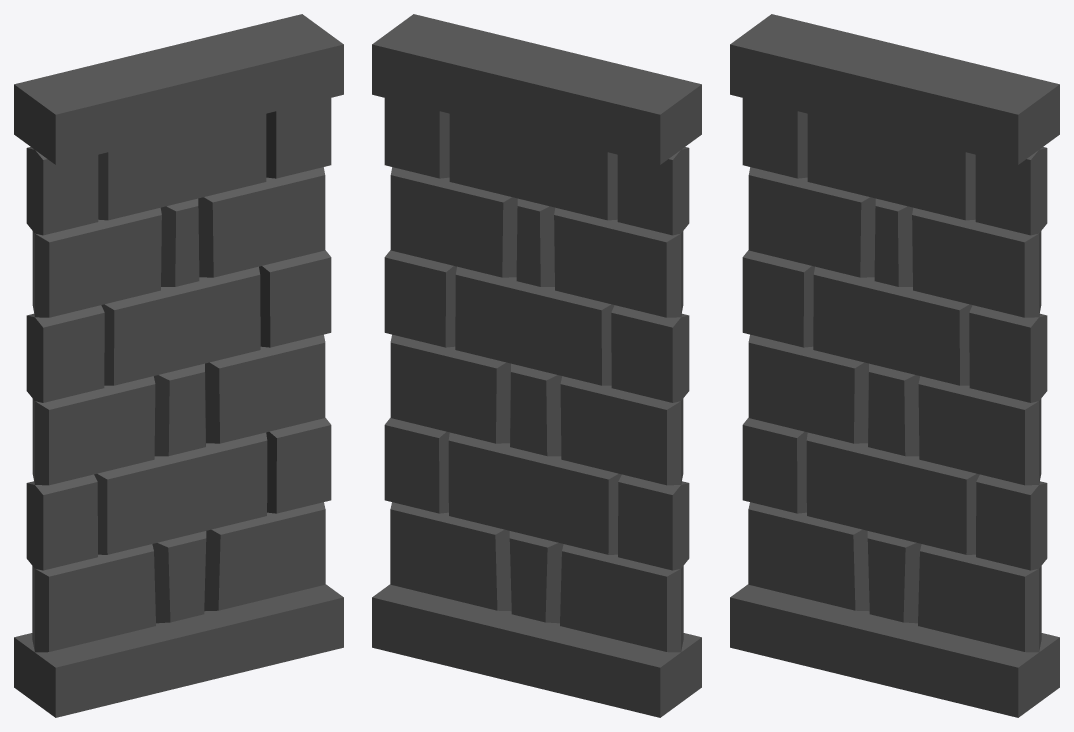
File: Wall_2x4.fbx
3 renders of one model, left to right at view 1: azimuth 30°, elevation 25°; view 2: azimuth 150°, elevation 25°; view 3: azimuth 330°, elevation 25°, orthographic.
Visible parts, largest first — view 1: Wall 2x4; view 2: Wall 2x4; view 3: Wall 2x4.
Part boxes in pixels (left/top/right/bottom): Wall 2x4: left=14, top=14, right=343, bottom=717; Wall 2x4: left=372, top=14, right=701, bottom=717; Wall 2x4: left=730, top=14, right=1059, bottom=717.
Size of the model in its own units: 200 by 400 by 50.
